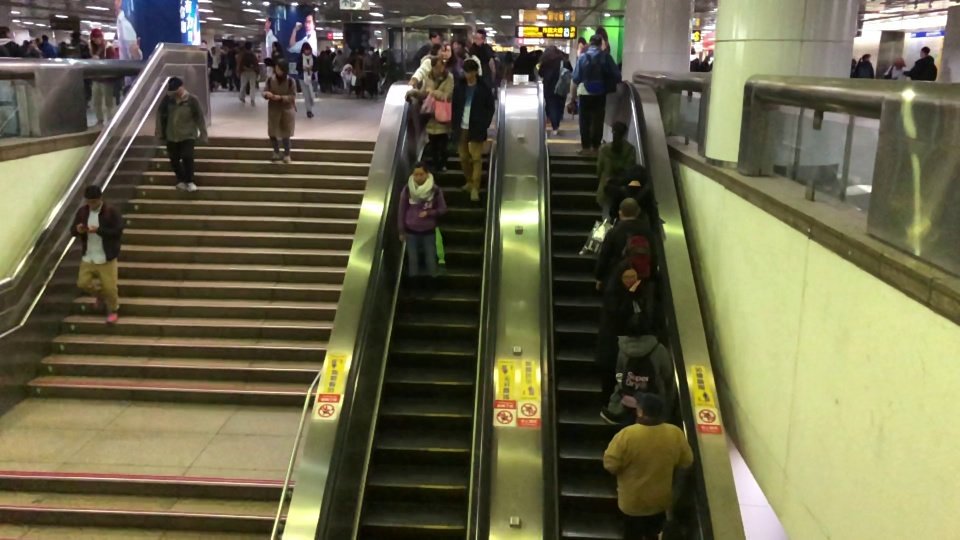person_head: (635, 393, 664, 421), (618, 258, 639, 287), (625, 312, 653, 333), (618, 197, 641, 219), (83, 184, 102, 208), (166, 76, 185, 96), (412, 160, 429, 181), (611, 120, 629, 138), (461, 59, 478, 78), (629, 164, 646, 181), (274, 58, 289, 74), (474, 28, 487, 45), (430, 57, 443, 73), (589, 34, 602, 46), (91, 29, 102, 43), (452, 38, 465, 49), (0, 25, 11, 37), (430, 31, 441, 43), (443, 44, 452, 58), (919, 45, 930, 56), (545, 44, 557, 53), (894, 55, 904, 65), (302, 42, 311, 52), (861, 52, 871, 61), (243, 40, 252, 48), (271, 42, 280, 50), (519, 45, 527, 54), (71, 30, 79, 38), (505, 50, 512, 58), (42, 34, 47, 41), (691, 46, 696, 53), (852, 58, 856, 65), (368, 46, 373, 51), (345, 65, 349, 70)
person_vbox: (603, 392, 694, 540), (69, 184, 125, 325), (596, 259, 640, 427), (606, 312, 674, 416), (396, 161, 447, 299), (594, 198, 660, 295), (571, 34, 623, 156), (451, 59, 495, 202), (154, 77, 208, 193), (411, 57, 454, 171), (595, 119, 636, 222), (260, 58, 297, 164), (538, 44, 572, 138), (609, 164, 653, 225), (89, 29, 116, 125), (63, 30, 92, 107), (295, 42, 320, 117), (235, 40, 260, 106), (903, 45, 938, 81), (411, 30, 442, 70), (469, 28, 494, 77), (362, 46, 380, 98), (687, 46, 699, 101), (884, 56, 909, 80), (0, 24, 17, 56), (451, 38, 465, 73), (856, 52, 874, 78), (514, 45, 530, 74), (40, 34, 56, 57), (501, 50, 513, 80), (341, 65, 351, 95), (271, 42, 281, 71), (850, 58, 856, 77)
